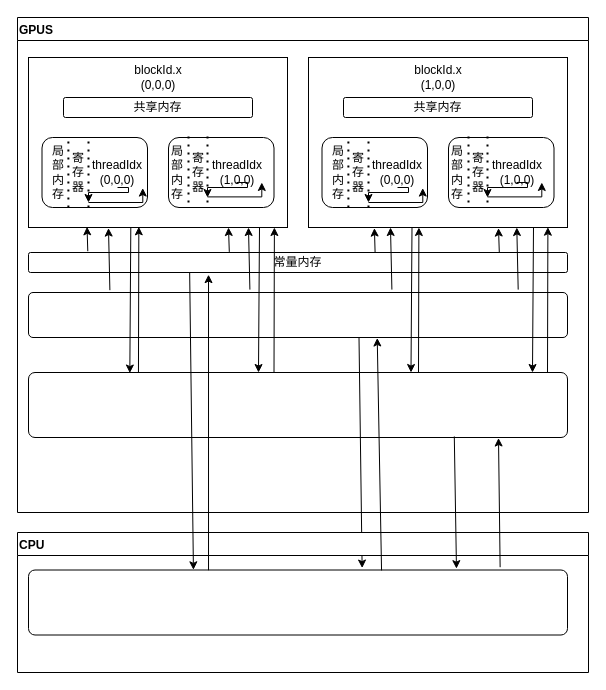
Some shapes in this 606 by 690 pixel diagram are drawn without their labels. The centre of each missing label's shape, as x and y in pixels:
"全局内存" belongs at [298,405].
"内存" belongs at [298,602].
"纹理内存" belongs at [298,315].
